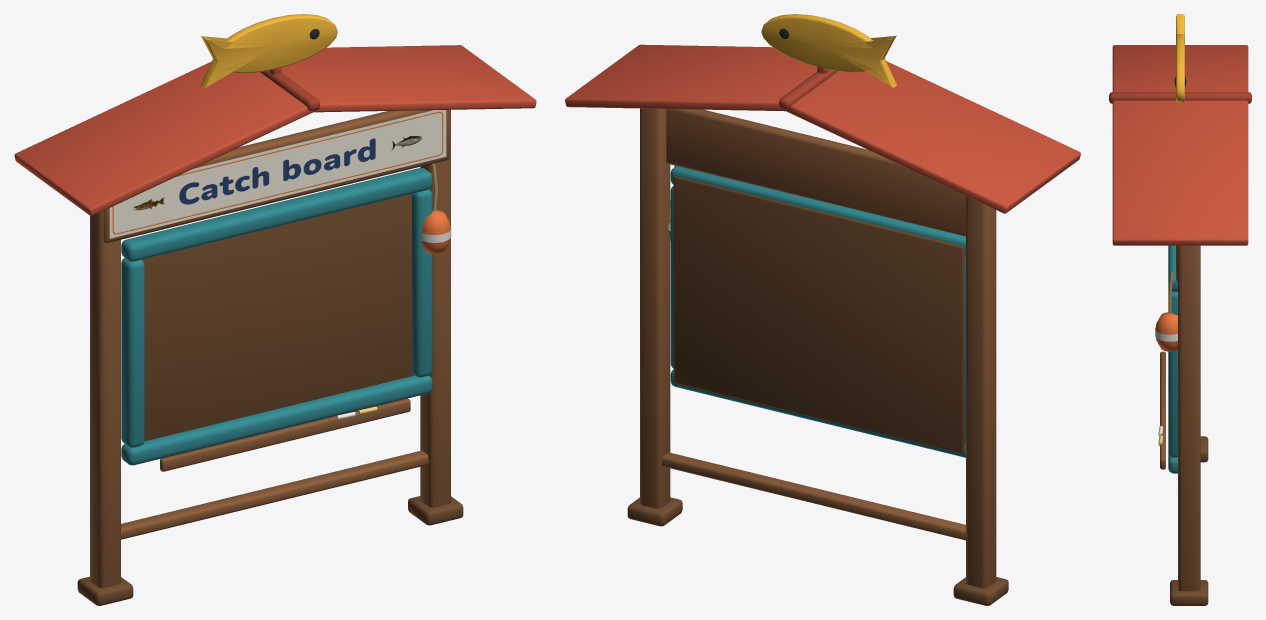
Rendered from fish-board-hd.glb.
3 renders of one model, left to right at view 1: azimuth 30°, elevation 25°; view 2: azimuth 150°, elevation 25°; view 3: azimuth 270°, elevation 25°, orthographic. The views are drawn at different scales.
Visible parts, largest first — view 1: fish-board; view 2: fish-board; view 3: fish-board.
Part boxes in pixels (x1,y1,x2,y2): fish-board: [14, 14, 536, 605]; fish-board: [565, 14, 1080, 605]; fish-board: [1109, 14, 1251, 605].
Bounding box in the file's own units: 2.64 × 3.05 × 0.82.
Materials: 3 (1 with a texture image).
